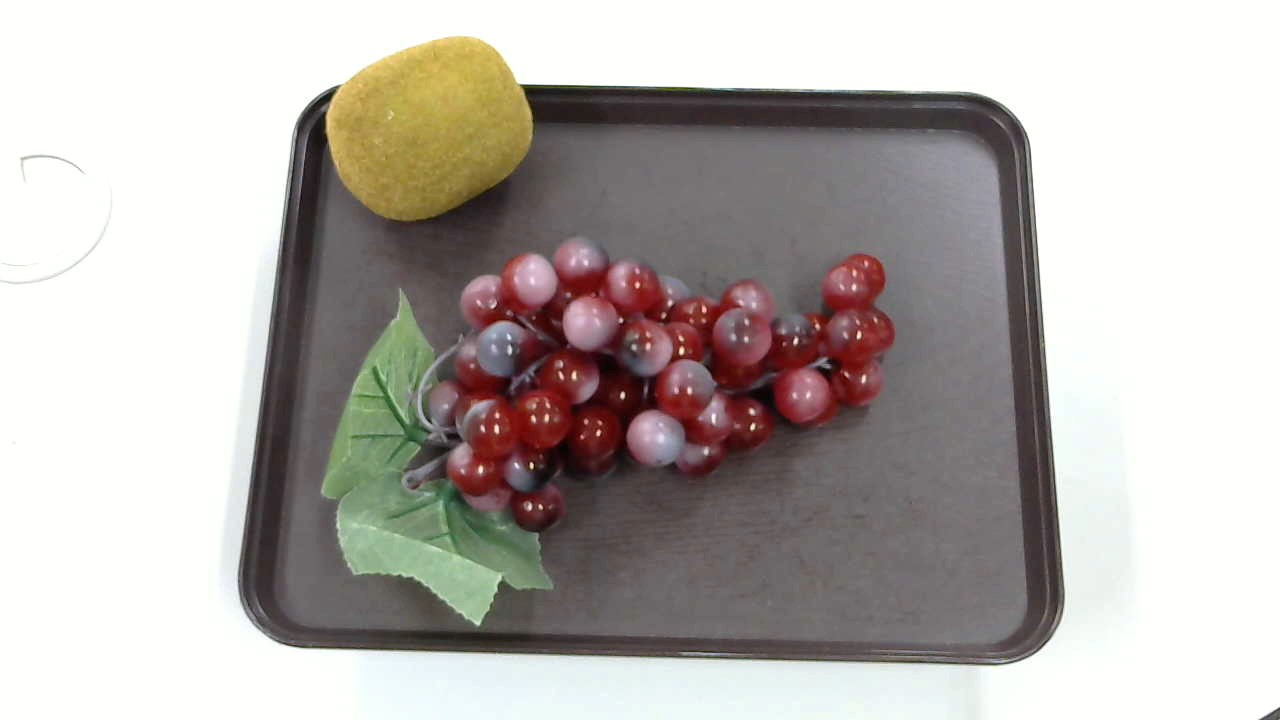grape: (318, 237, 905, 622)
kiwi fruit: (327, 35, 534, 225)
